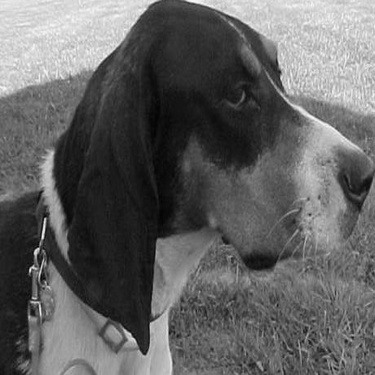dog: (5, 1, 370, 372)
